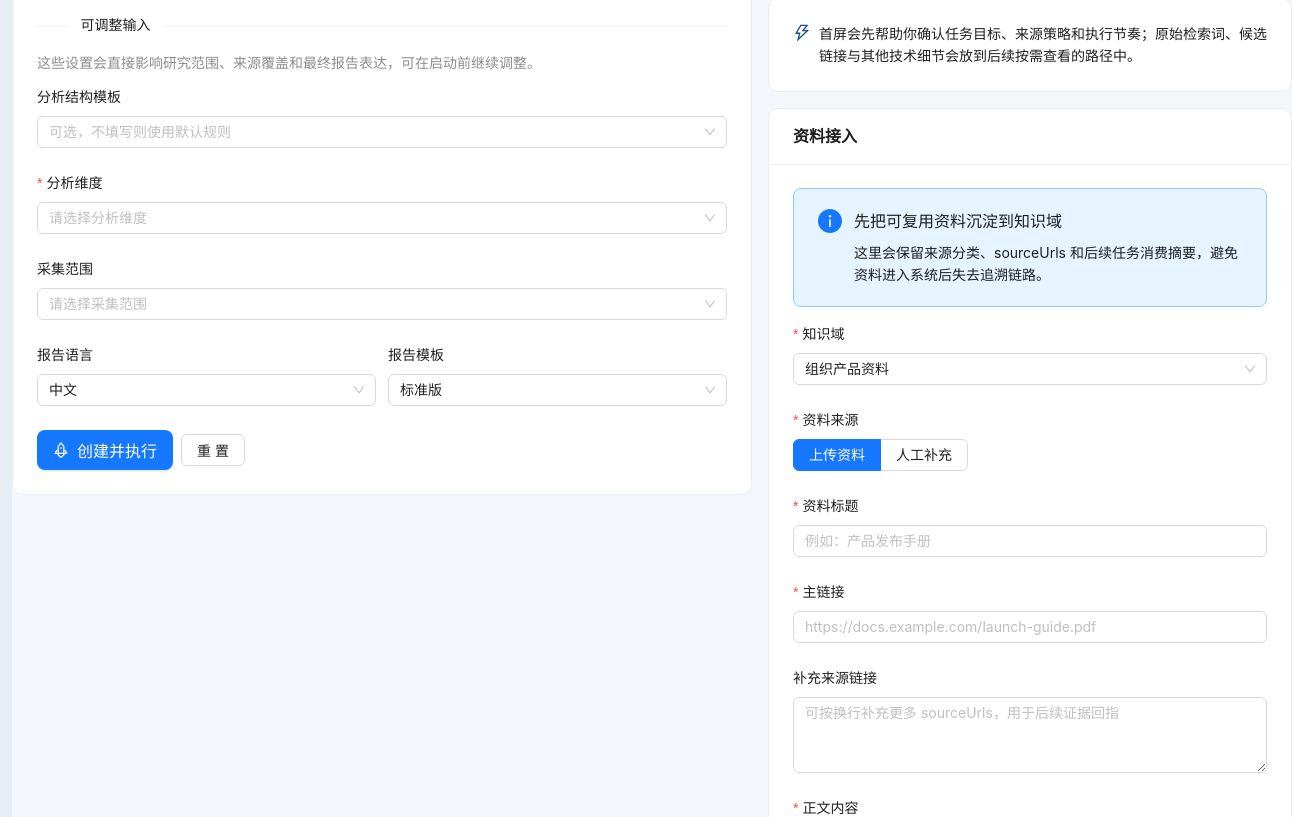
Test: TaskCreatePage › blocks submission when required fields are missing
(page scrolled)
Click the button "创建并执行" at coordinates (105, 450), box [37,430,173,470]
(page scrolled)
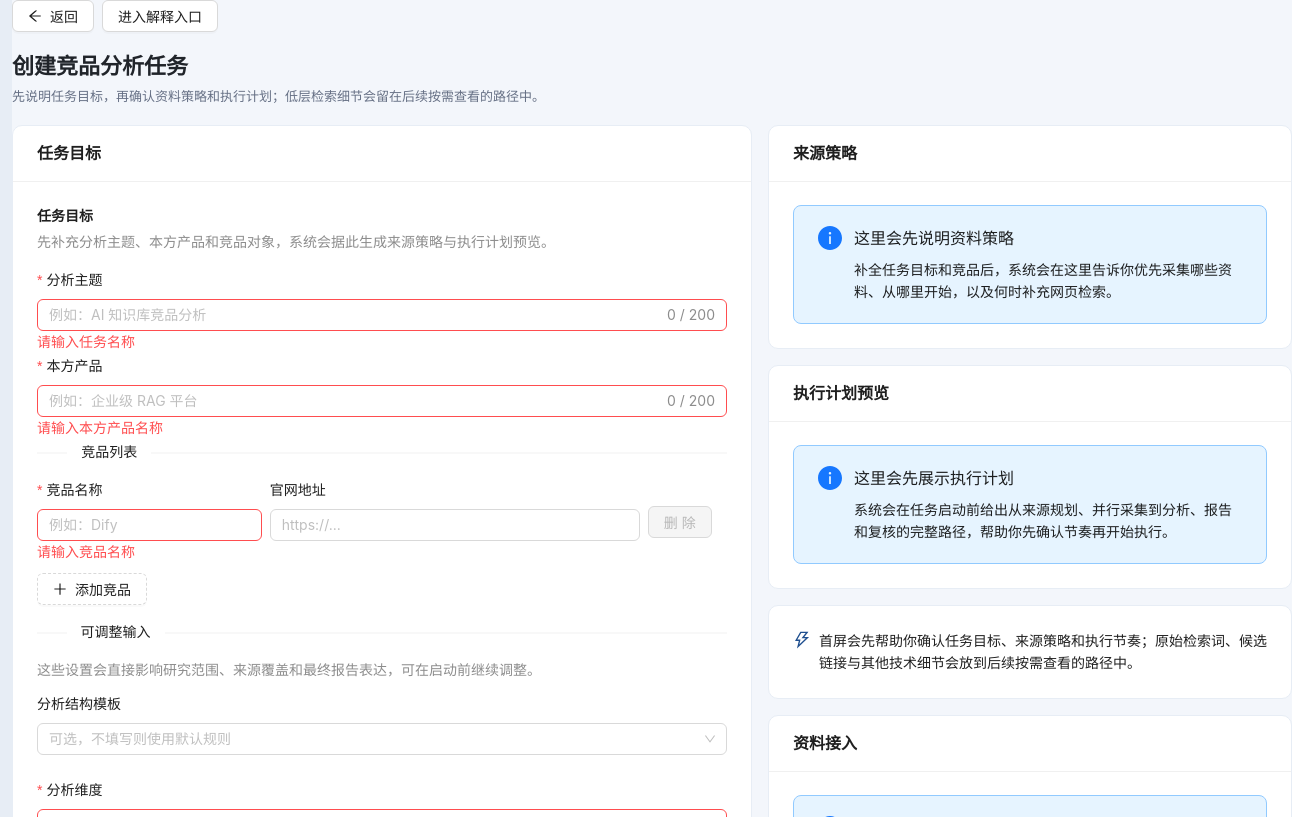
Check: the text "请输入任务名称" is shown, box [37,333,135,350]
